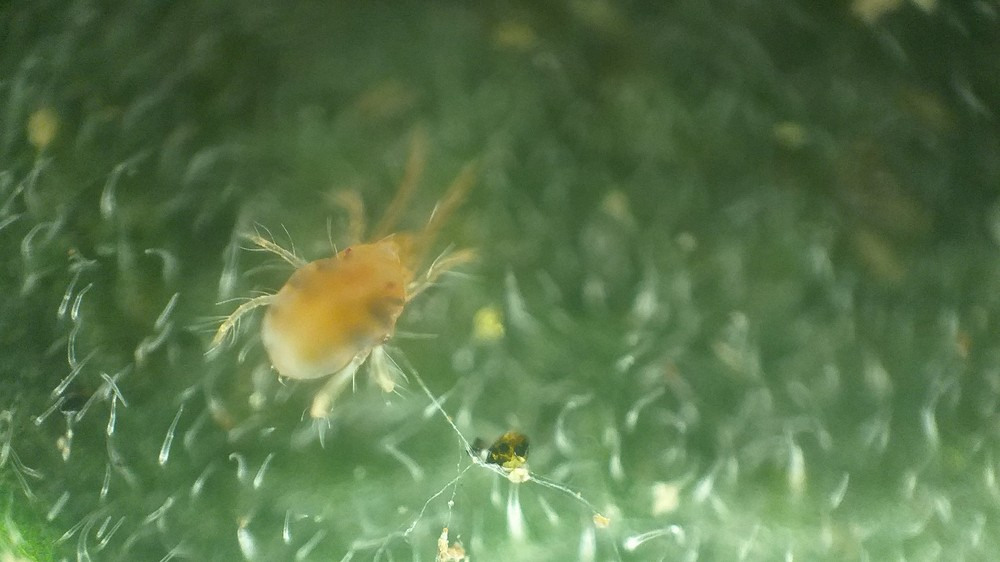Aracnido Rojo: (197, 128, 517, 437)
